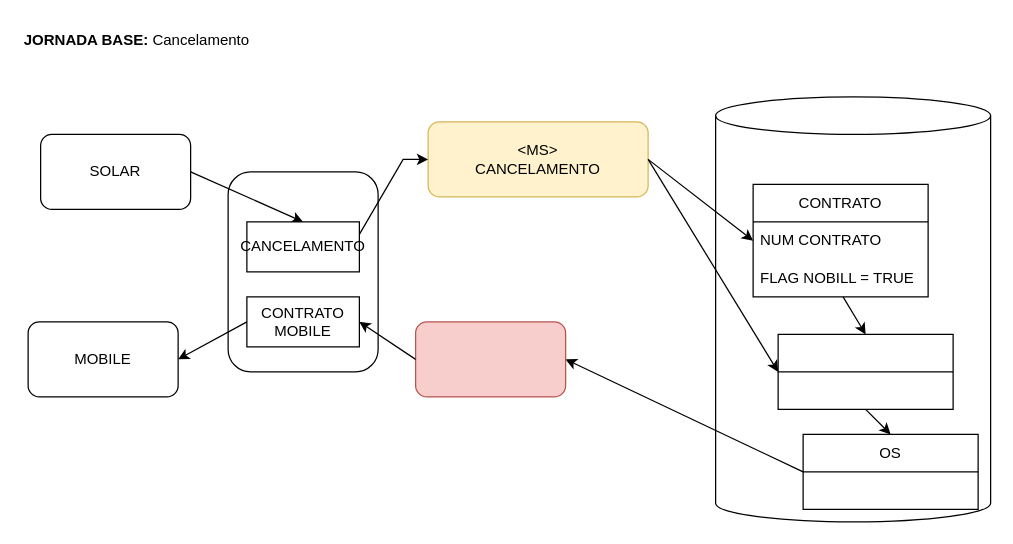
Some shapes in this 1013 by 544 pixel diagram are drawn without their labels. Each missing label, with the box of its shape:
<MS> CALLBACK SOLAR: (414, 321, 566, 397)
NETSALES: (714, 96, 991, 522)
OM: (227, 171, 378, 372)
SOLIC: (777, 333, 953, 409)
